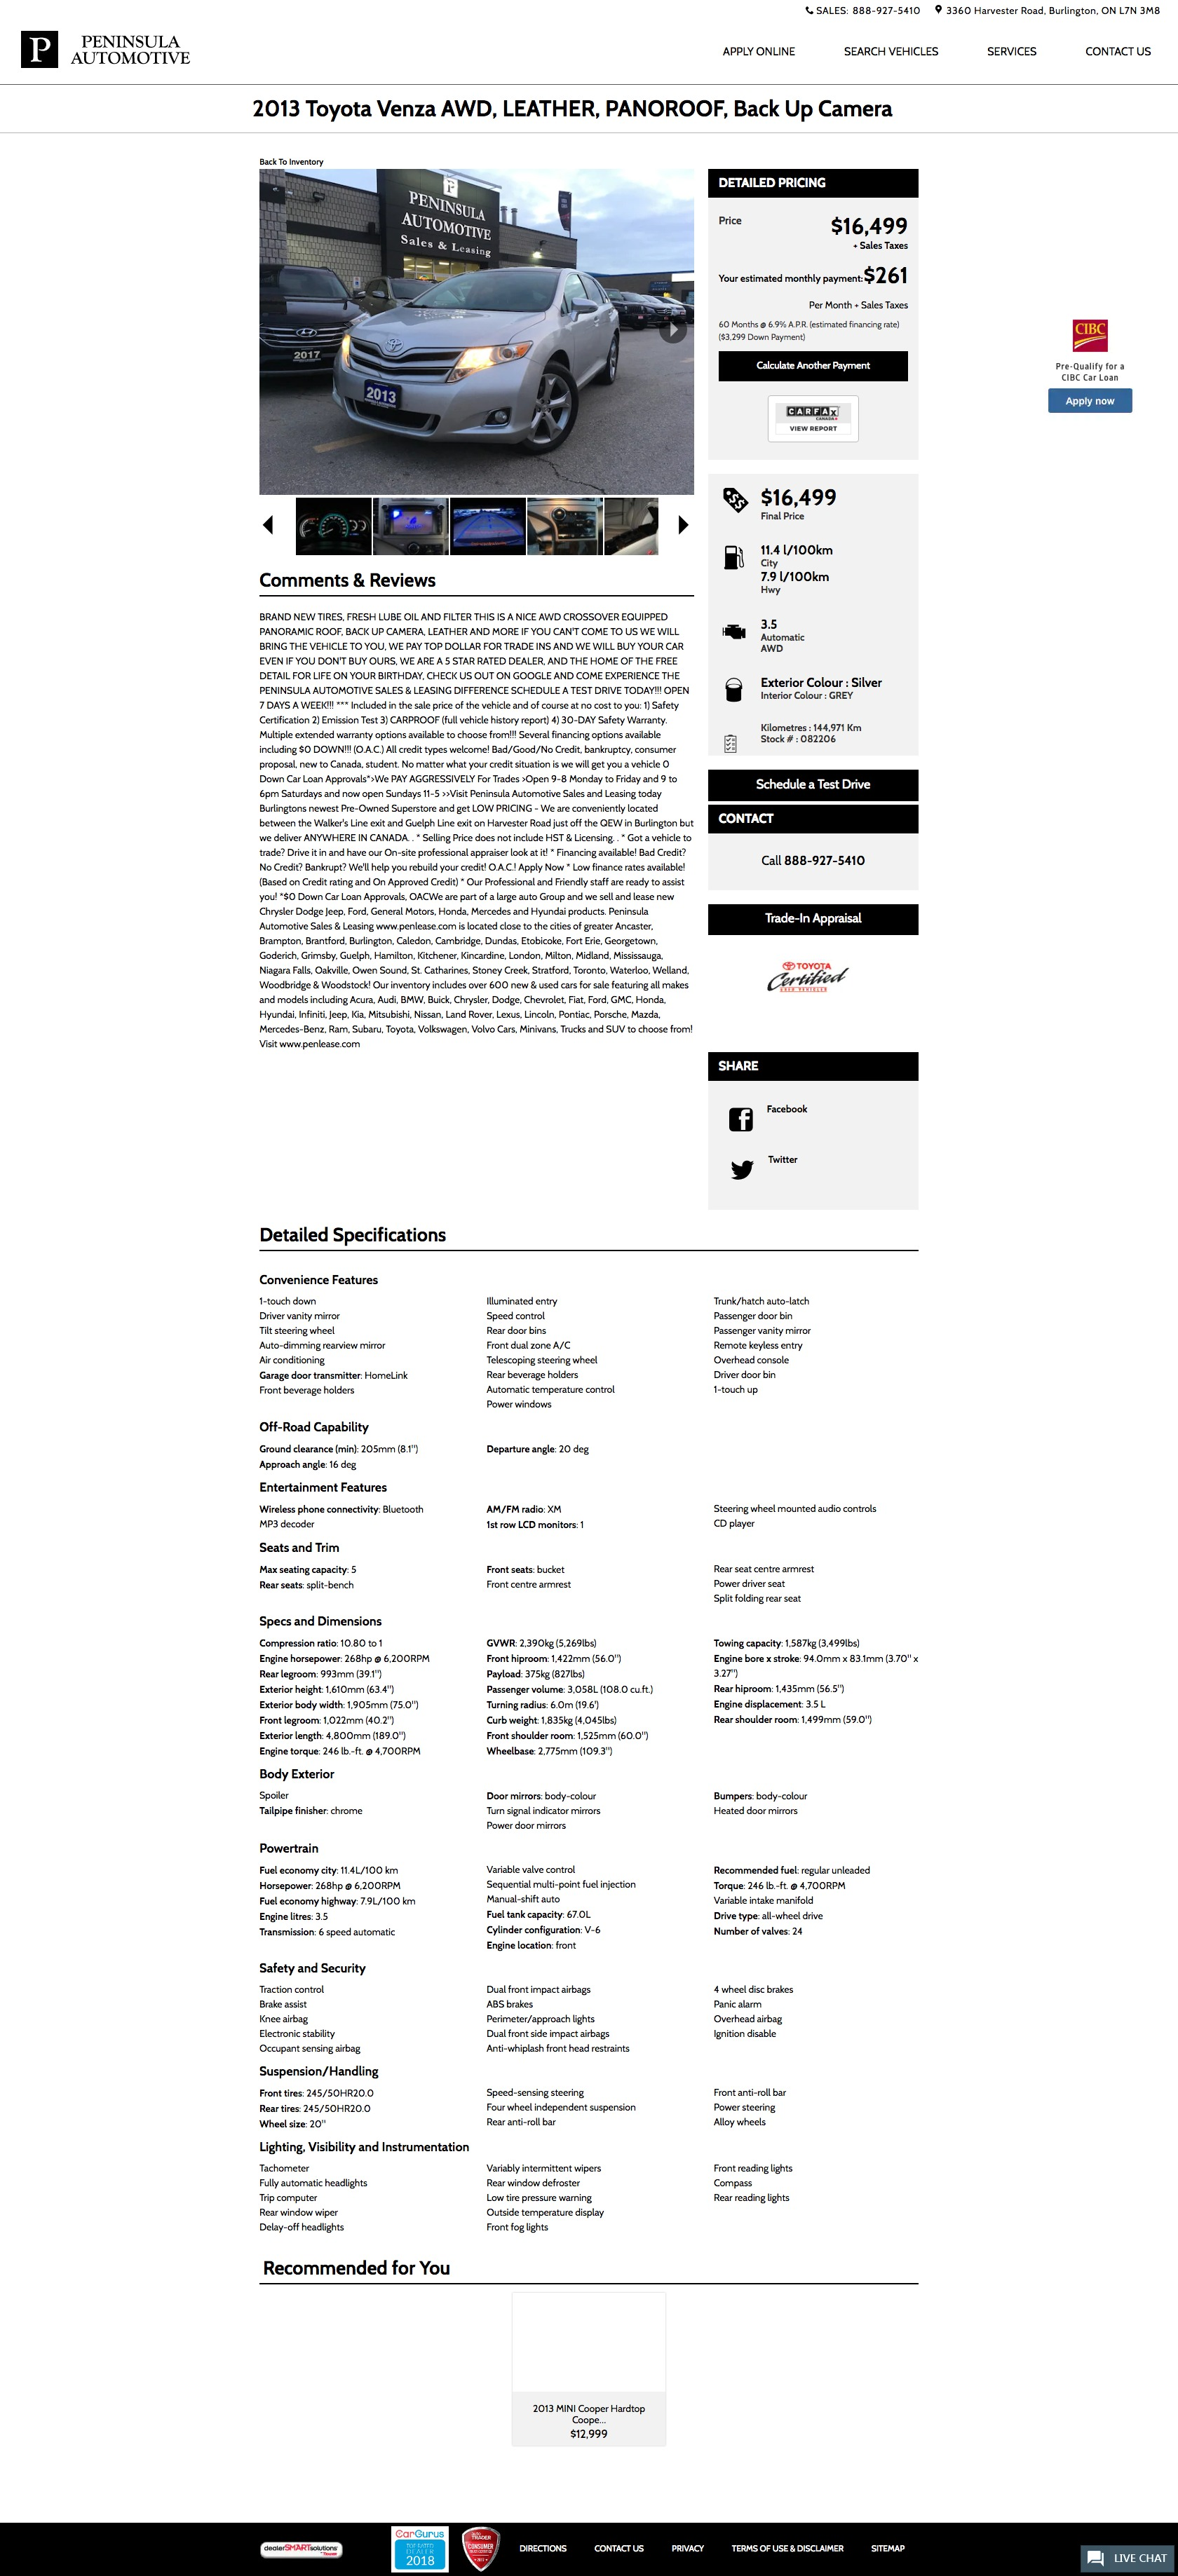car: (679, 516, 690, 536)
